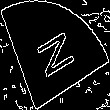N_SW: (31, 25, 79, 85)
